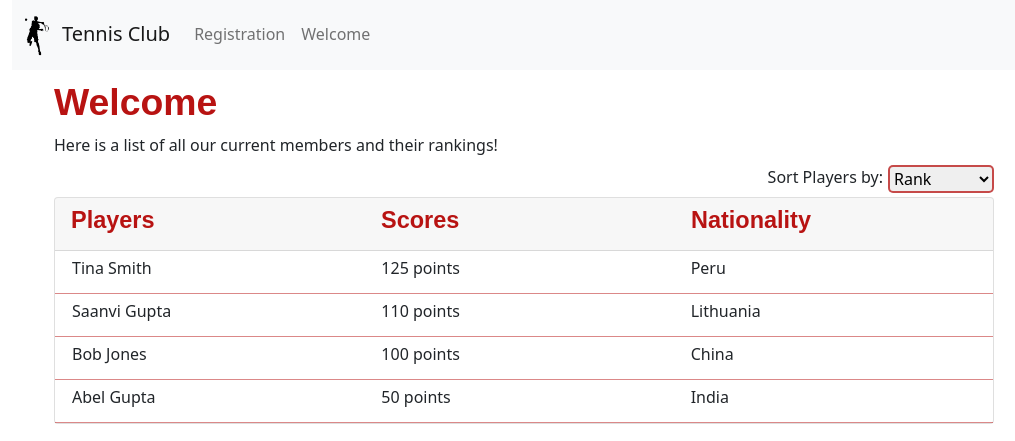
Scenario: Welcome Page › sorts by name when sort dropdown is changed
The width and height of the screenshot is (1015, 441).
Select "Name" in the dropdown. click: (941, 179)
box: [888,165,994,193]
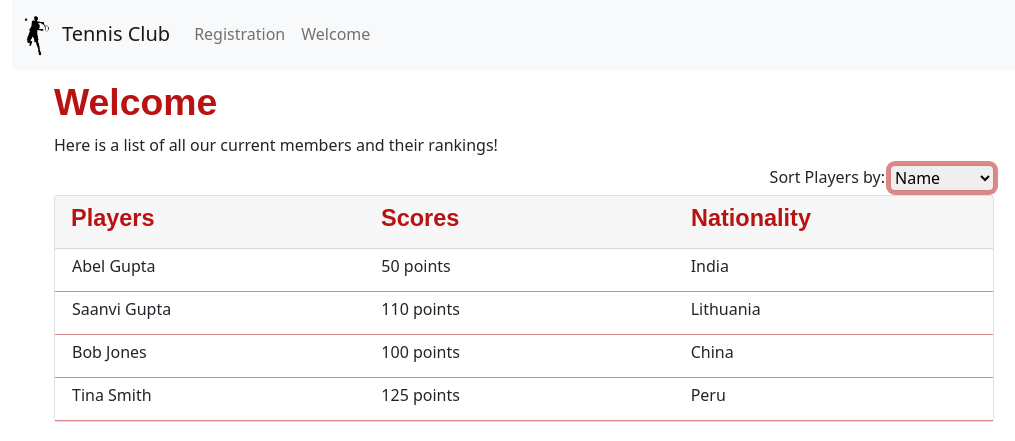
Now the text "Abel Gupta" is shown, box [72,255,156,277]
Now the text "Tina Smith" is shown, box [72,384,152,406]
